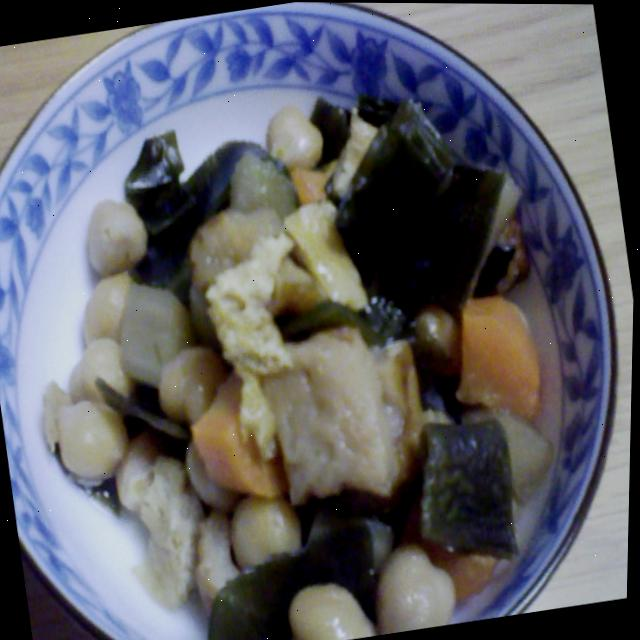汤锅炖物: (0, 11, 638, 640)
